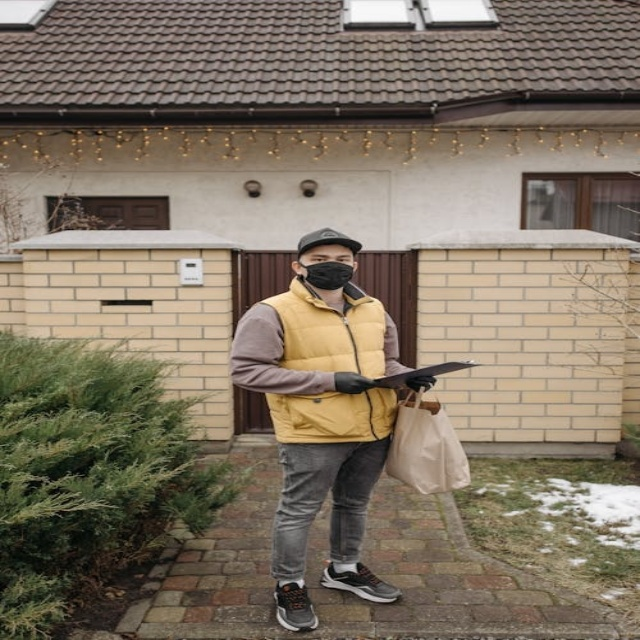Guantes: (334, 371, 383, 394), (406, 375, 437, 392)
Mascara: (300, 261, 354, 289)
Sin_gafas: (303, 250, 355, 263)
